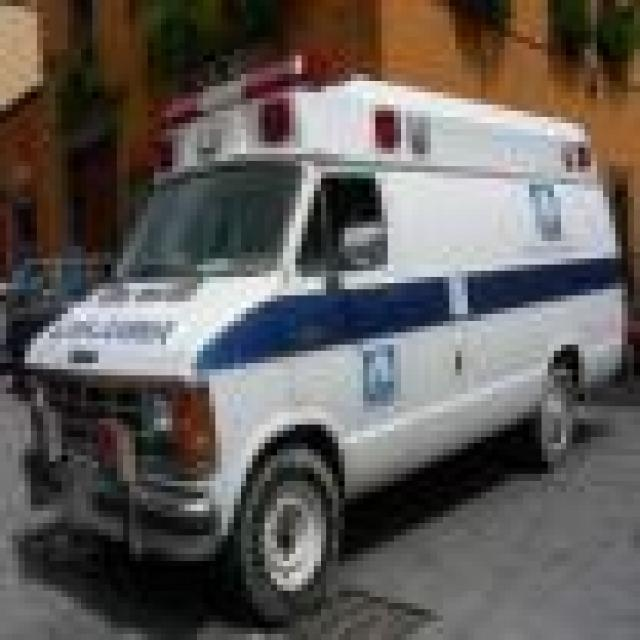emergency-vehicle: (16, 58, 624, 637)
